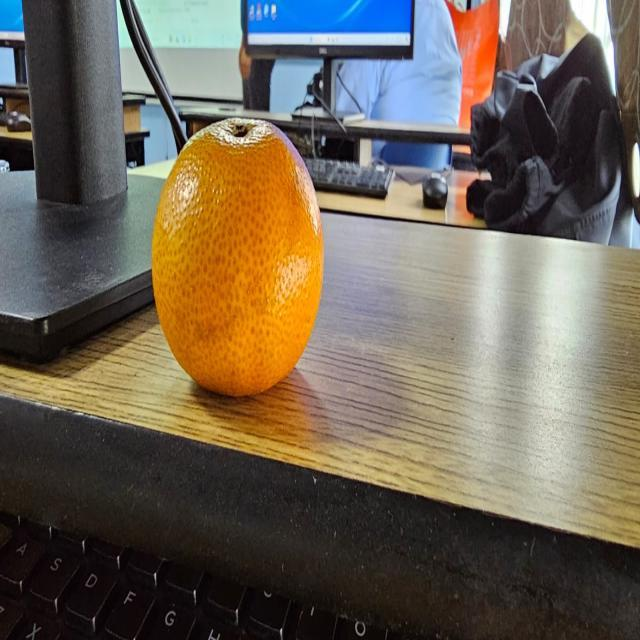Jeruk Mandarin: (147, 110, 329, 408)
